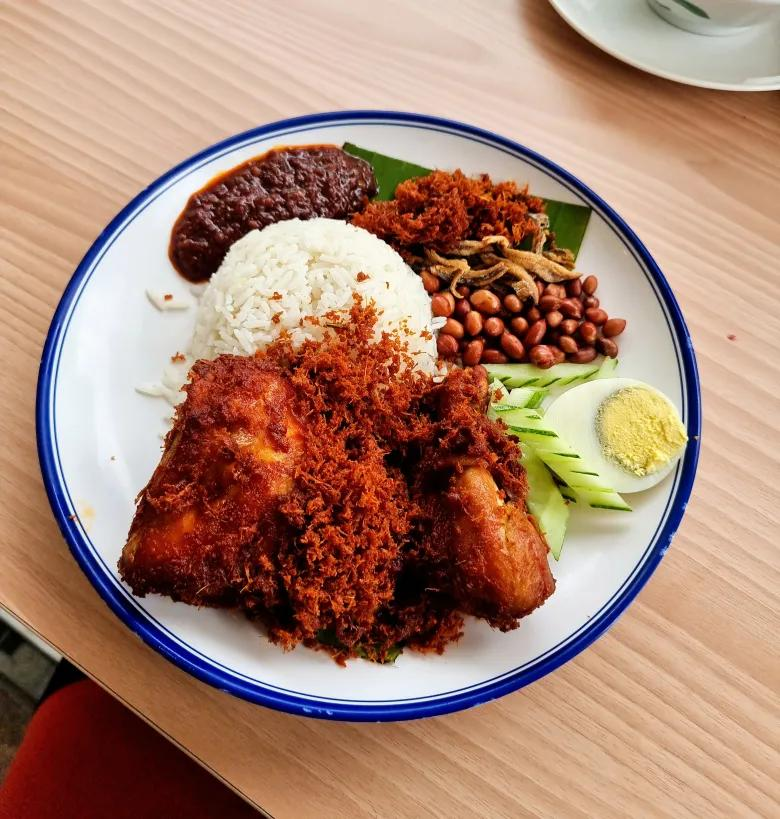Anchovies: (420, 237, 581, 296)
Boiled-Egg: (544, 378, 687, 494)
Cucumber: (485, 355, 632, 561)
Fried-Chicken: (117, 340, 556, 653)
Peanuts: (433, 277, 623, 368)
Rice: (193, 221, 446, 376)
Sambal: (168, 148, 377, 287)
